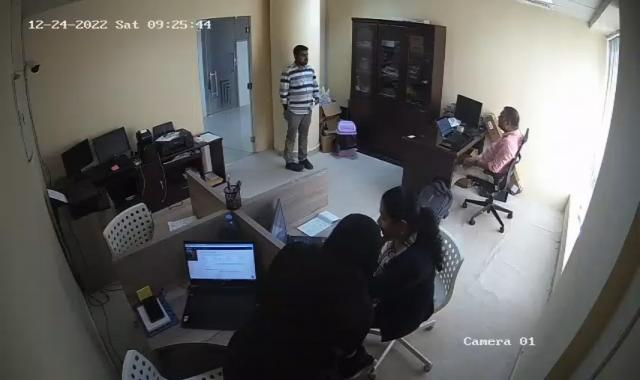no_hairnet: (378, 188, 421, 240), (496, 105, 520, 132), (292, 42, 311, 67)
